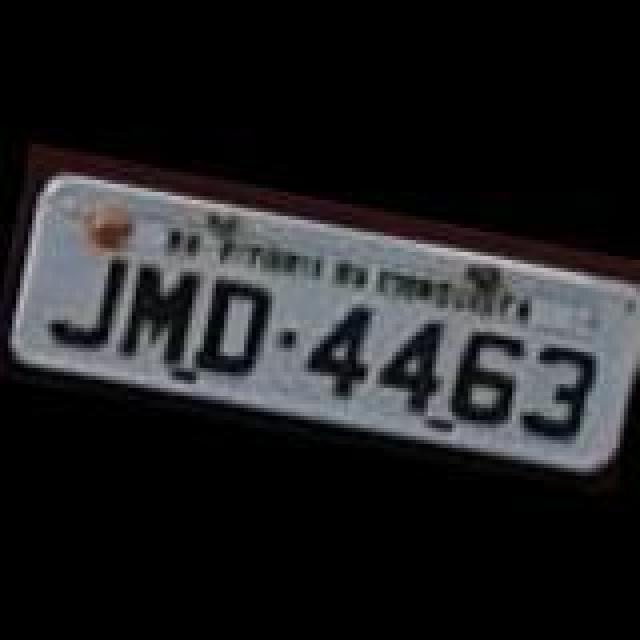3: (512, 332, 600, 444)
4: (290, 286, 382, 402), (366, 302, 450, 418)
6: (442, 320, 534, 432)
D: (186, 270, 278, 386)
J: (34, 238, 126, 354)
M: (114, 254, 206, 370)
